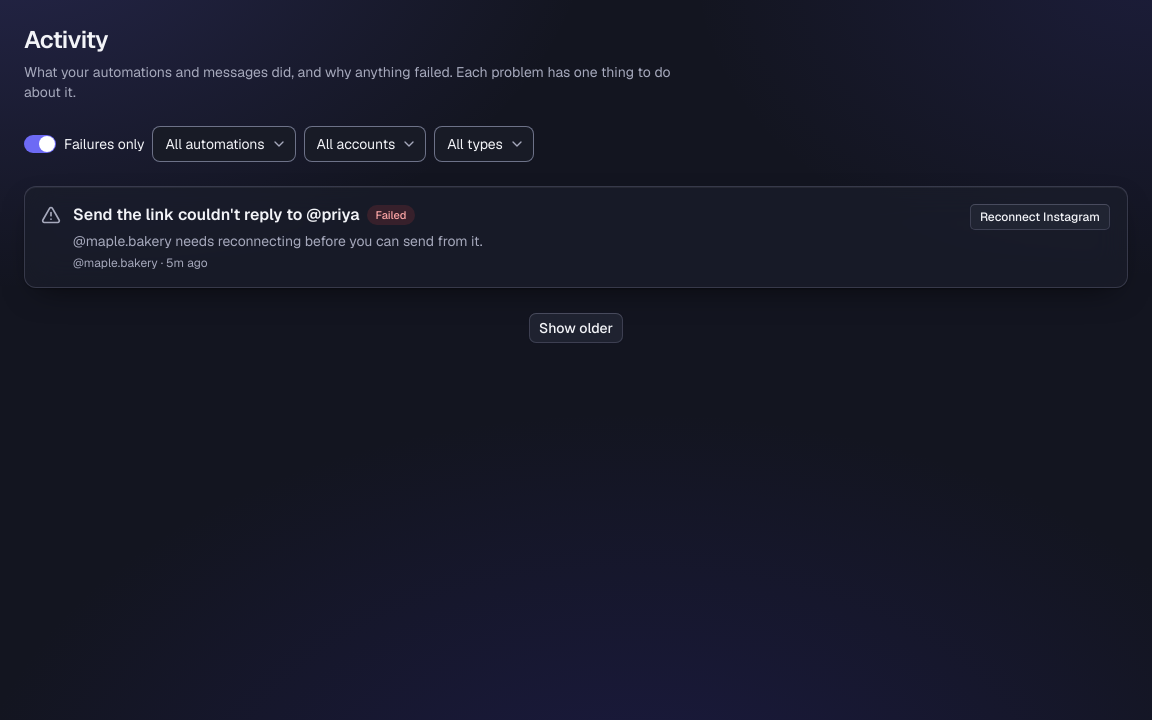
Test: Settings, Activity (GR-05) › pages with the cursor
Expected: the text "Send the link couldn't reply to @priya" is shown, [73,203,359,227]
Click the button "Show older": (576, 328) [528,312,624,344]
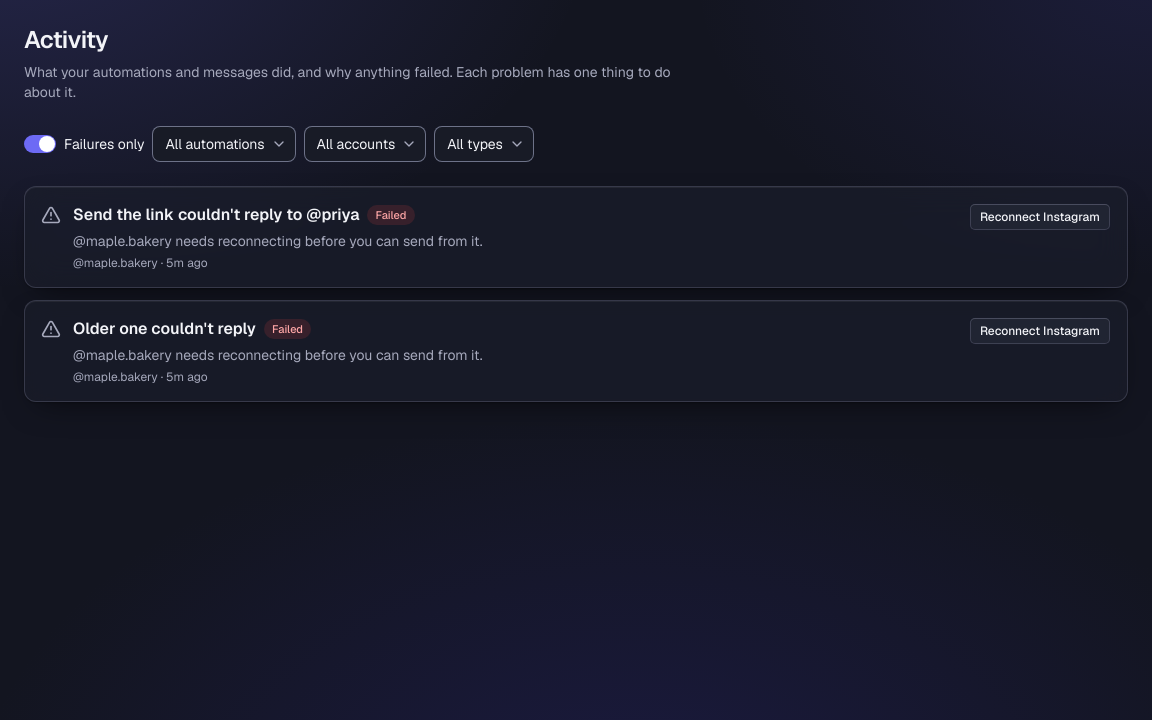
Result: the text "Older one couldn't reply" is shown at [73,317,256,341]
Result: the button "Show older" is gone
